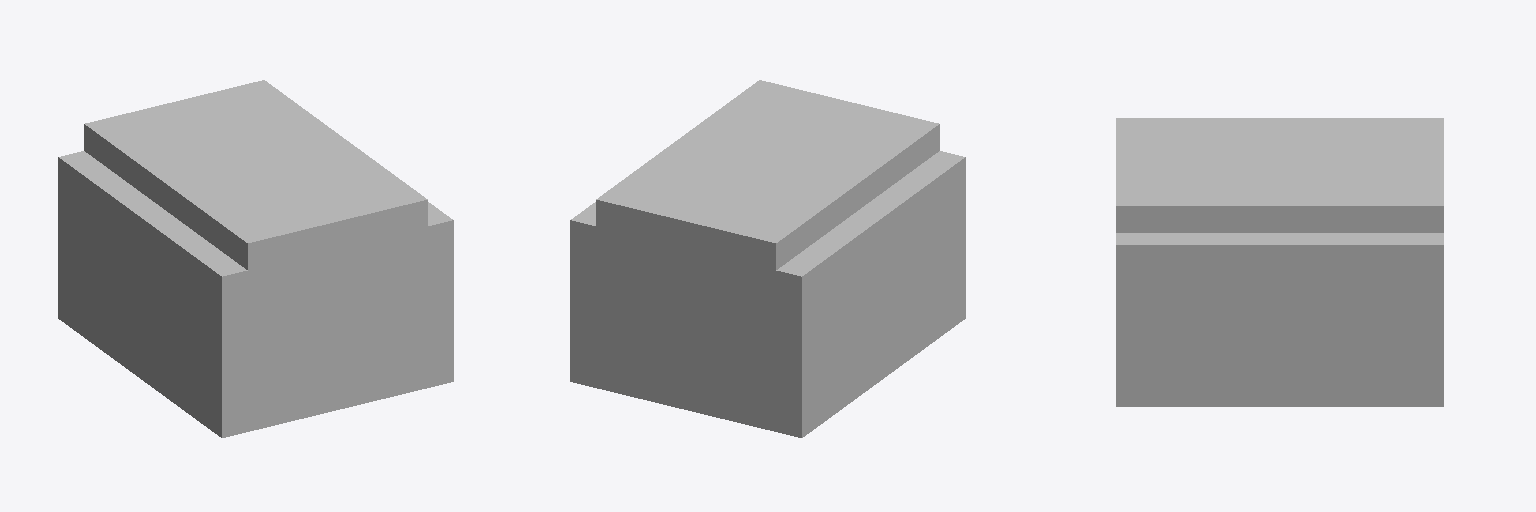
Rendered from ushi_body.obj.
3 renders of one model, left to right at view 1: azimuth 30°, elevation 25°; view 2: azimuth 150°, elevation 25°; view 3: azimuth 270°, elevation 25°, orthographic.
Visible parts, largest first — view 1: object 1; view 2: object 1; view 3: object 1.
Boxes of the visible parts, box(x1,y1,x2,y2) form: object 1: box(58, 80, 453, 437); object 1: box(570, 80, 965, 437); object 1: box(1116, 118, 1443, 406).
Bounding box in the file's own units: 3.6 × 2.8 × 4.4.